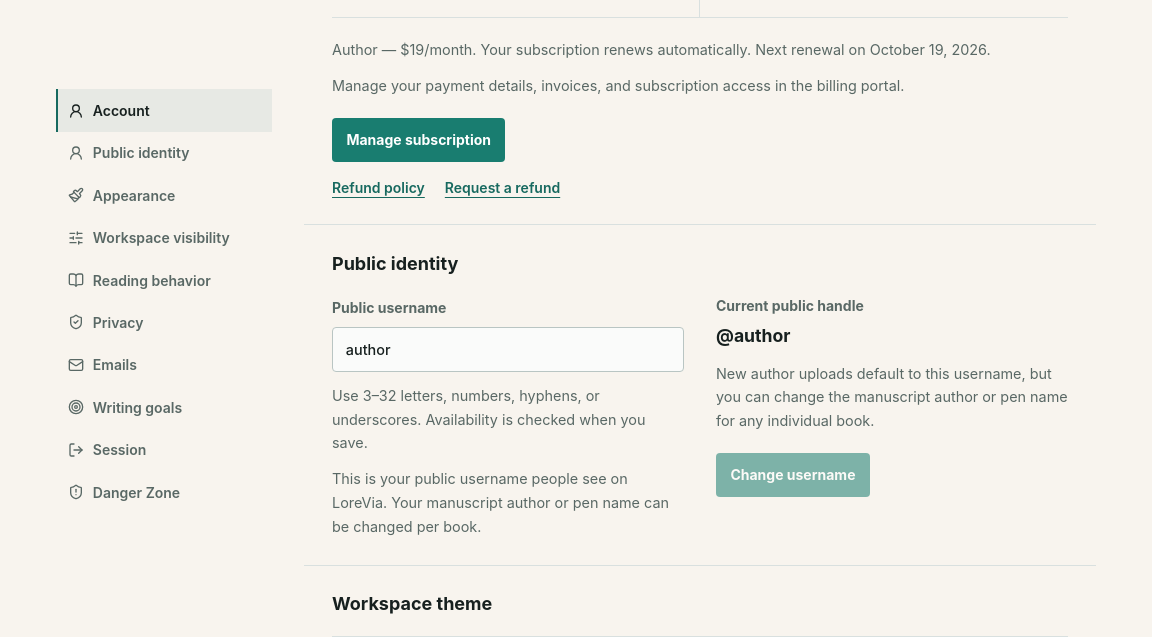
Test: SettingsPage billing actions › shows the account username editor and saves an updated public handle
The image size is (1152, 637).
(page scrolled)
Replace the text in the field labelled "Public username" with "new-handle" at x=508, y=350, box [346,339,670,360]
(page scrolled)
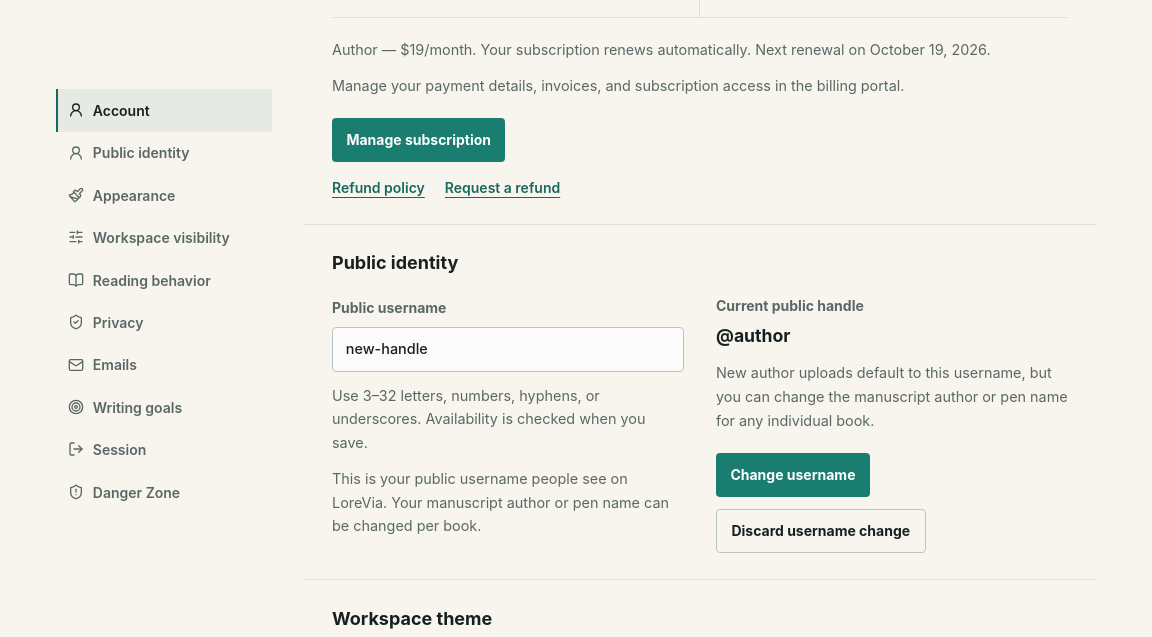
Click the button "Change username".
click(793, 475)  # box [716,453,870,497]
(page scrolled)
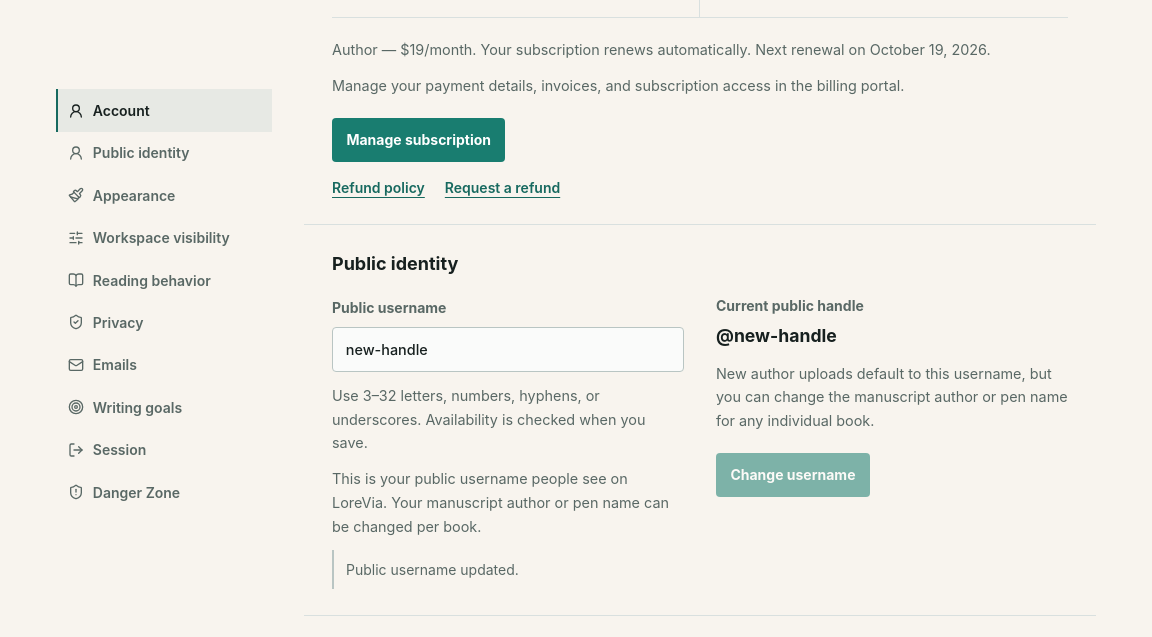
Check: the text "Public username updated." is shown, box [332,550,684,589]
Check: the text "@new-handle" is shown, box [716,325,837,346]
